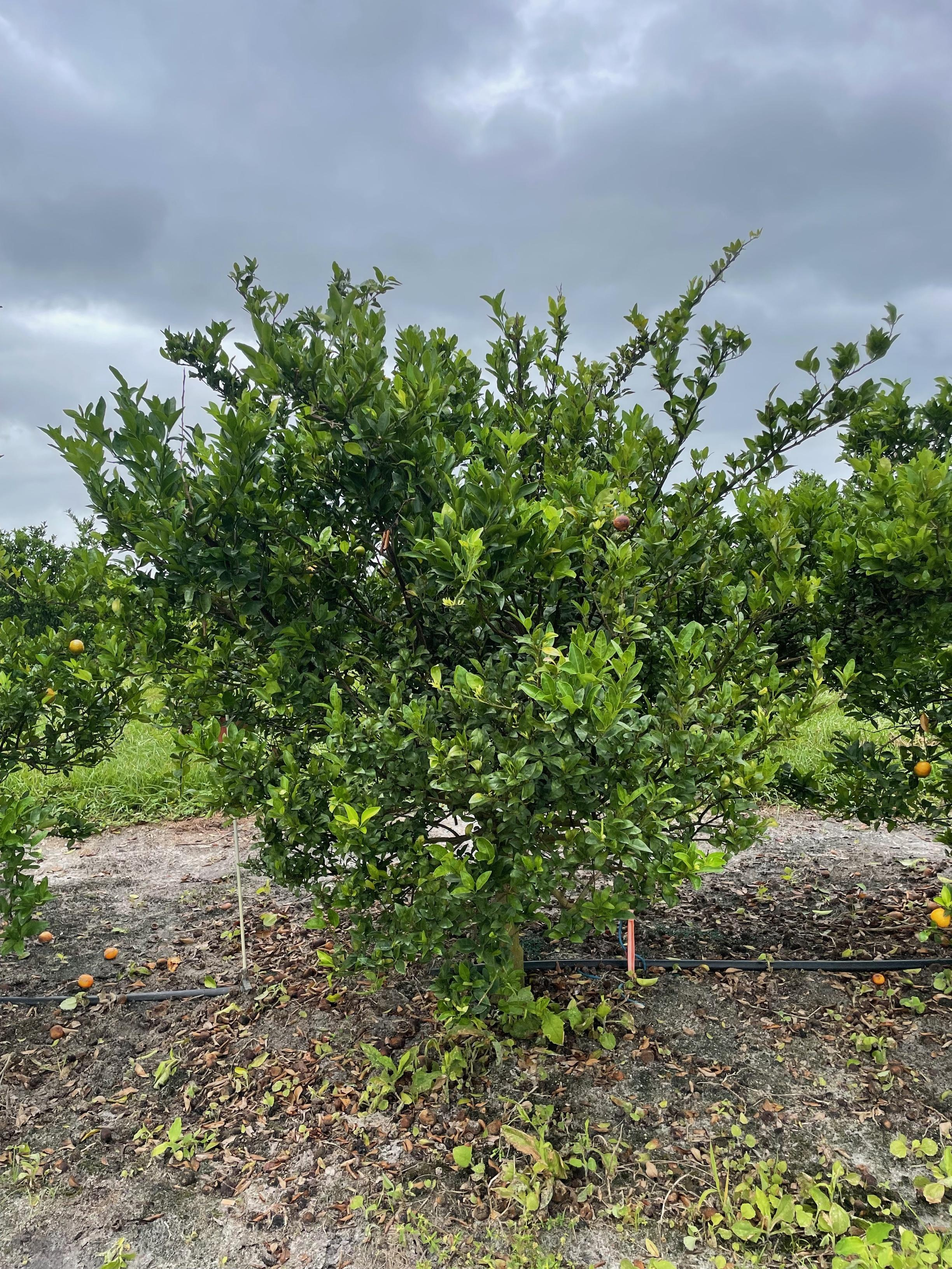fruit_on_ground: (929, 905, 951, 929), (911, 759, 934, 780), (38, 684, 58, 705), (611, 513, 632, 533), (67, 637, 86, 656), (353, 544, 366, 558)
fruit_on_tree: (101, 943, 120, 961), (35, 927, 55, 944), (75, 972, 95, 989), (869, 970, 888, 987), (47, 1023, 66, 1039), (302, 966, 318, 979)
